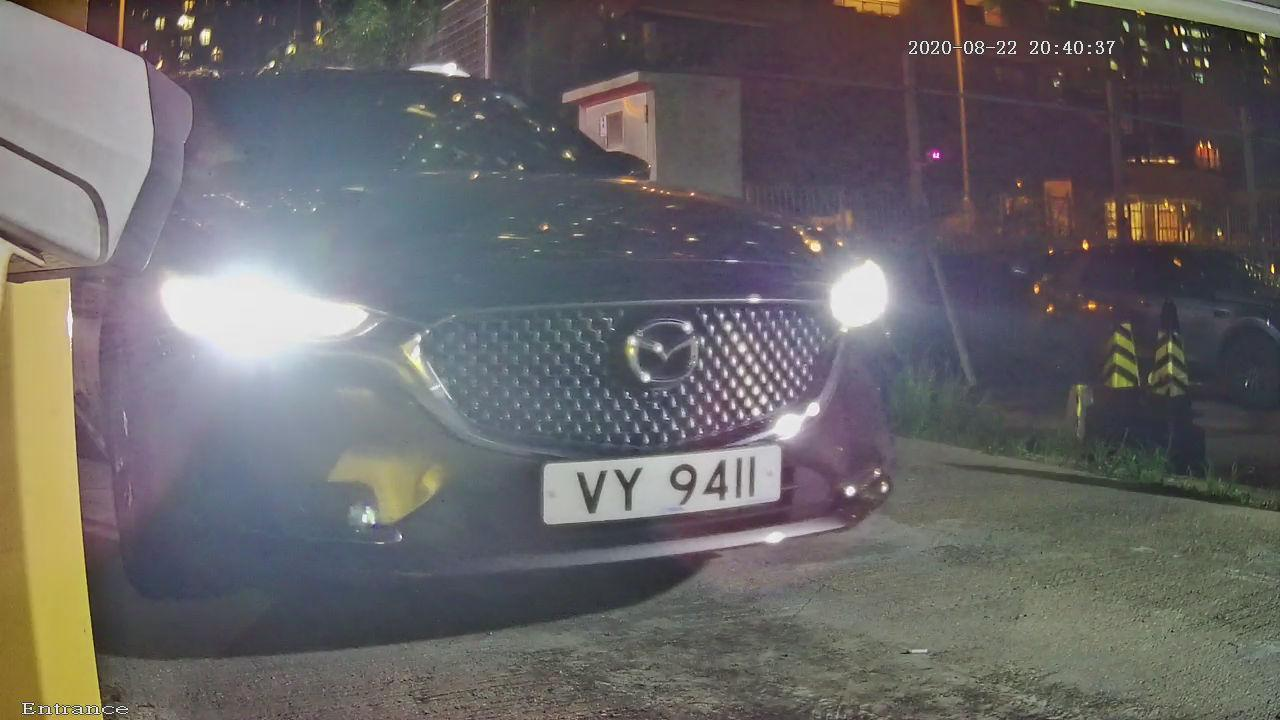Car: (12, 17, 983, 650)
License Plate: (492, 407, 817, 568)
